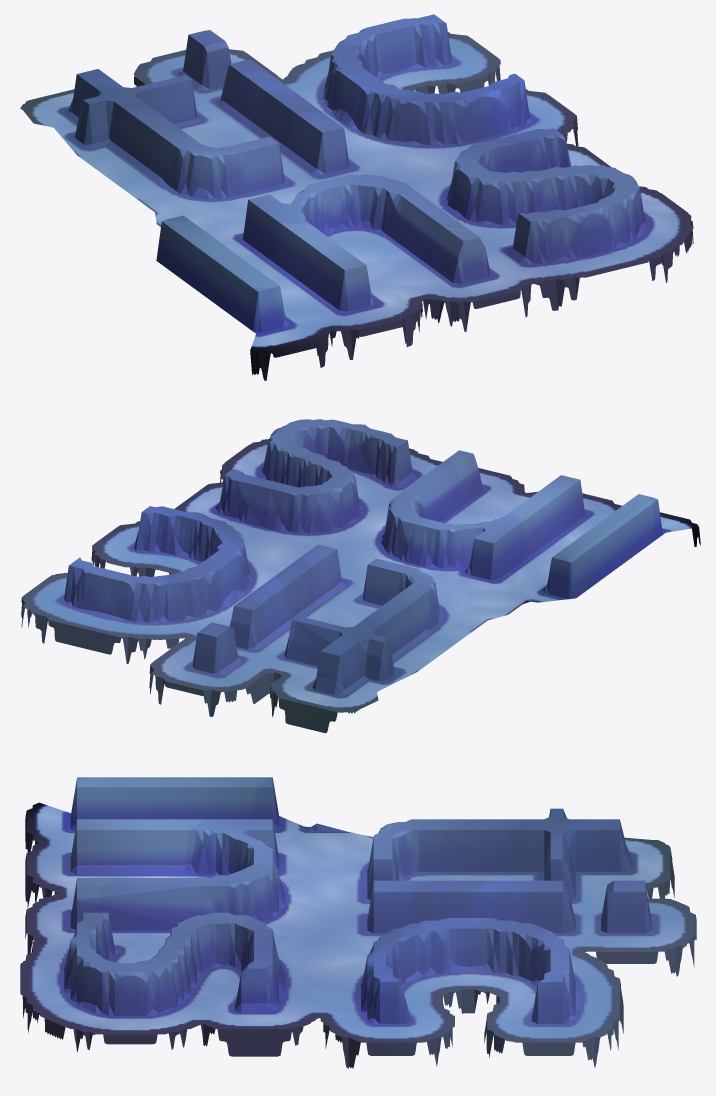
Rendered from TitlecardRight.fbx.
The picture shows the model from 3 angles, top to bottom: view 1: azimuth 30°, elevation 25°; view 2: azimuth 150°, elevation 25°; view 3: azimuth 270°, elevation 25°; orthographic projection. The views are drawn at different scales.
Parts seen in each view (by area): view 1: TextRight; view 2: TextRight; view 3: TextRight.
Part boxes in pixels (x1=…): TextRight: x1=20, y1=14, x2=693, y2=380; TextRight: x1=21, y1=419, x2=700, y2=732; TextRight: x1=20, y1=777, x2=696, y2=1068.
Bounding box in the file's own units: 91.92 × 13.37 × 110.
